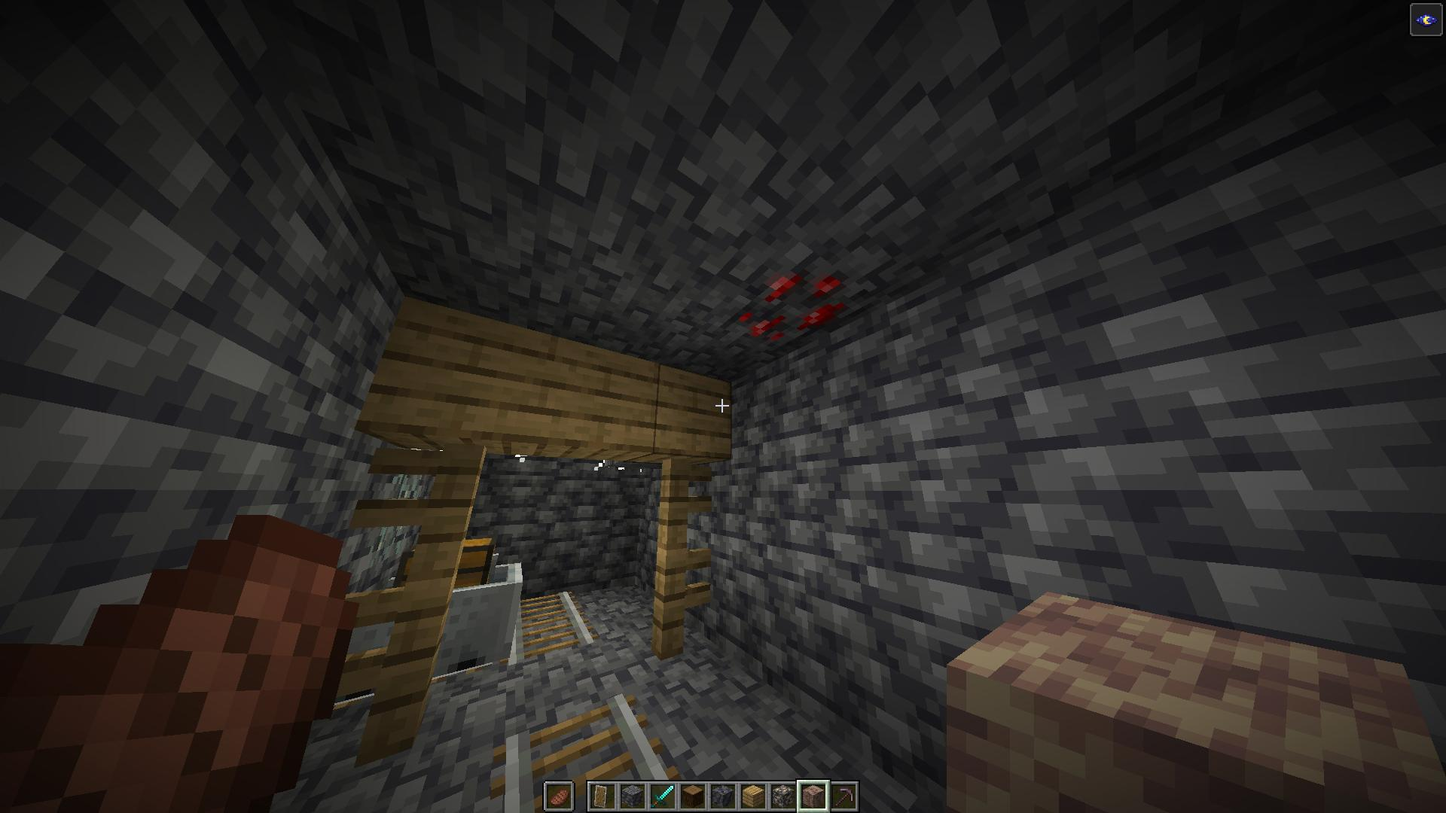redstone ore: (737, 269, 850, 346)
